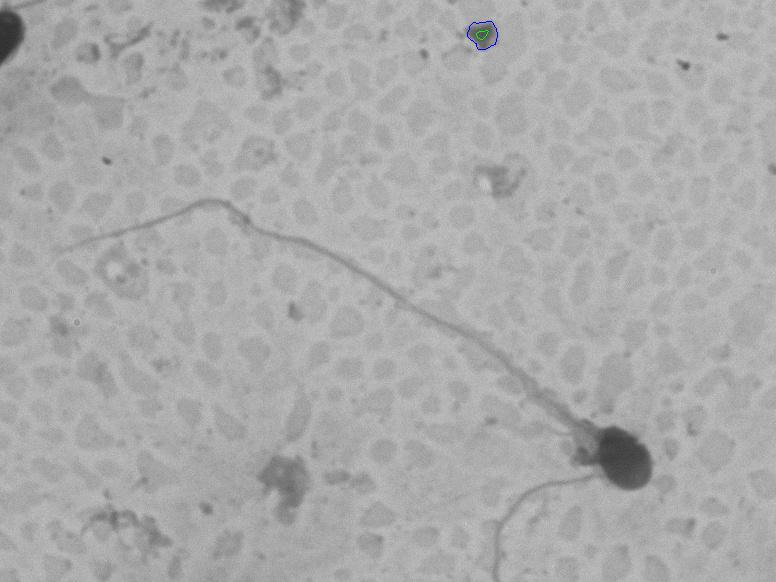Abnormal: (31, 181, 666, 508)
